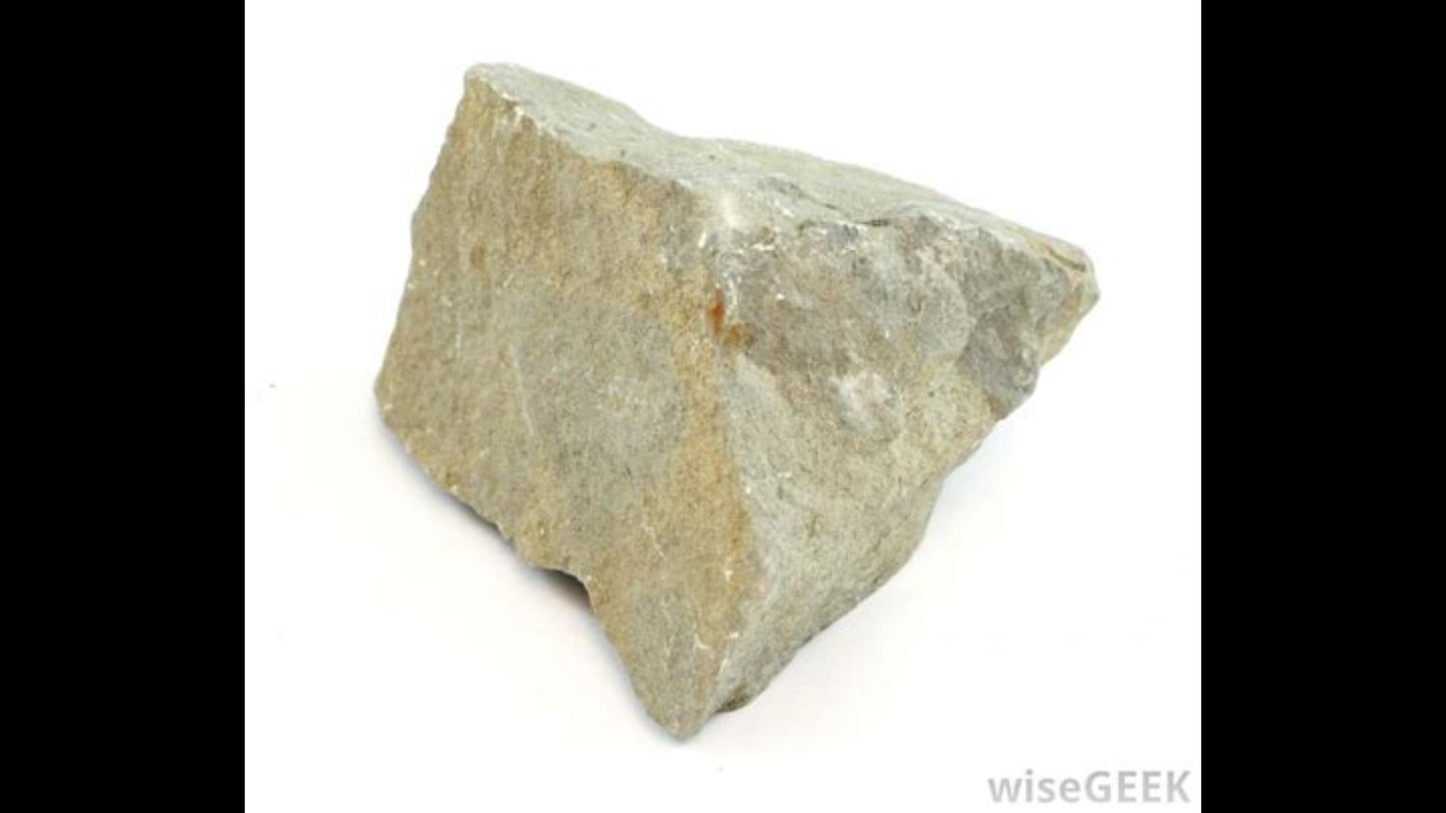rock: (380, 67, 1092, 734)
